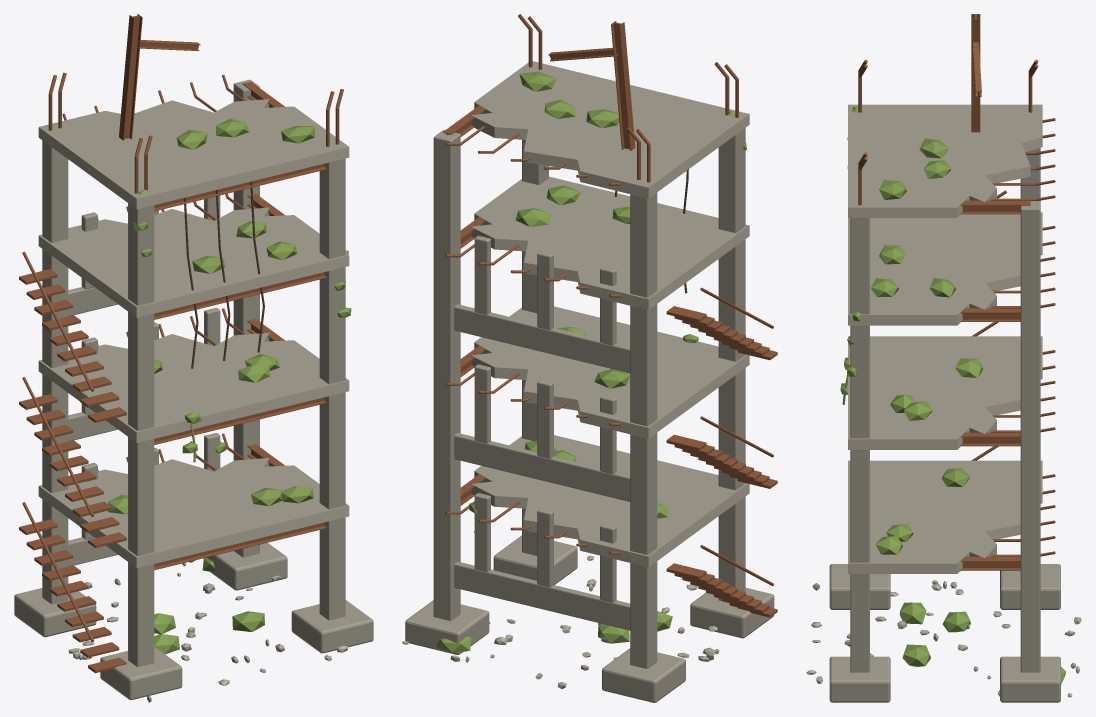
File: Ruined_Concrete_Tower_Revival.glb
3 views of the same model, side by side, from view 1: azimuth 30°, elevation 25°; view 2: azimuth 150°, elevation 25°; view 3: azimuth 270°, elevation 25° (orthographic). The views are drawn at different scales.
Parts seen in each view (by area): view 1: Structure, Growth; view 2: Structure, Growth; view 3: Structure, Growth.
Part boxes in pixels (x1,y1,x2,y2): Structure: (14, 14, 373, 702); Growth: (107, 118, 351, 654); Structure: (402, 14, 777, 702); Growth: (436, 71, 747, 652); Structure: (806, 14, 1081, 702); Growth: (840, 107, 1065, 684).
Size of the model in its own units: 9.9 by 22.11 by 9.04.
